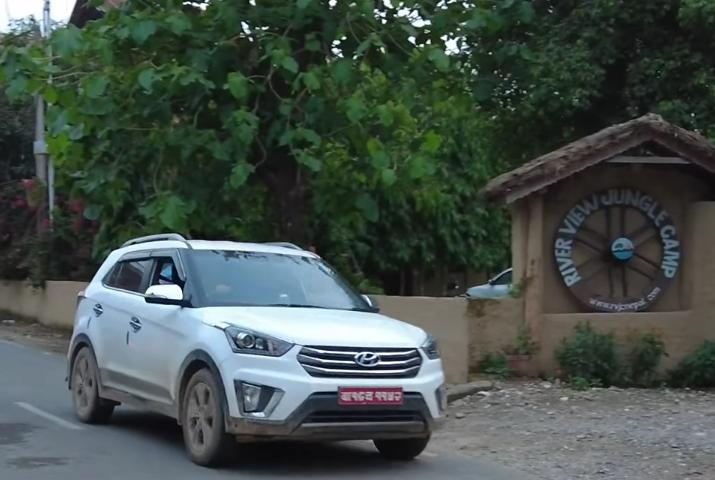car: (68, 224, 451, 470)
